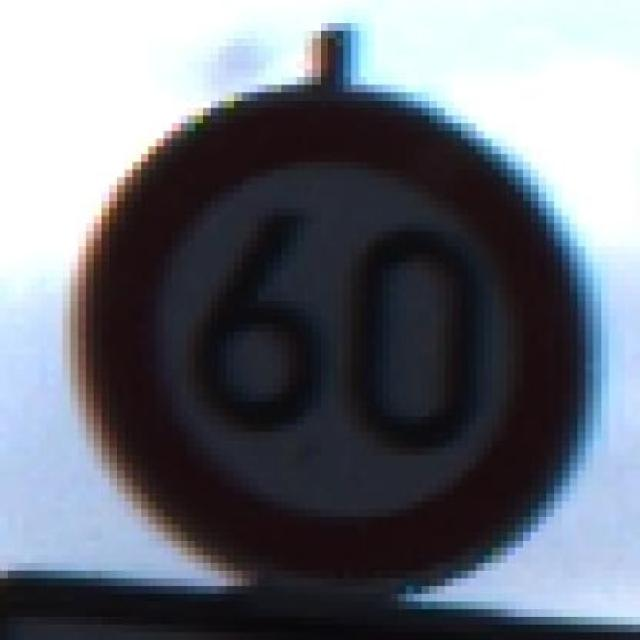forb_speed_over_60: (85, 87, 585, 573)
